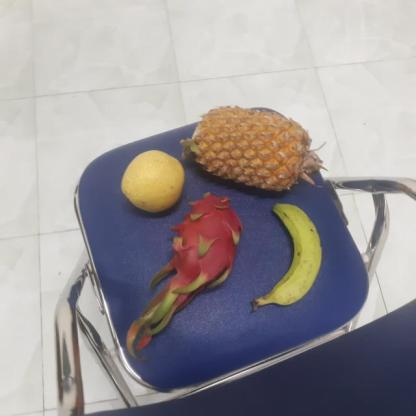banana: (254, 205, 323, 306)
pear: (118, 149, 187, 214)
pineapple: (186, 105, 318, 195)
pitaya: (164, 195, 242, 285)
